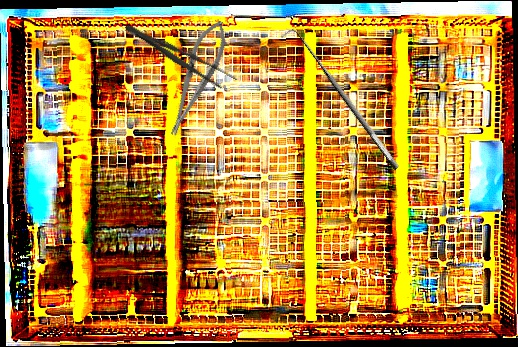Dressing Forceps: (120, 18, 240, 95)
Hook Surgical: (279, 22, 403, 179)
Needle Holder: (157, 15, 236, 141)
